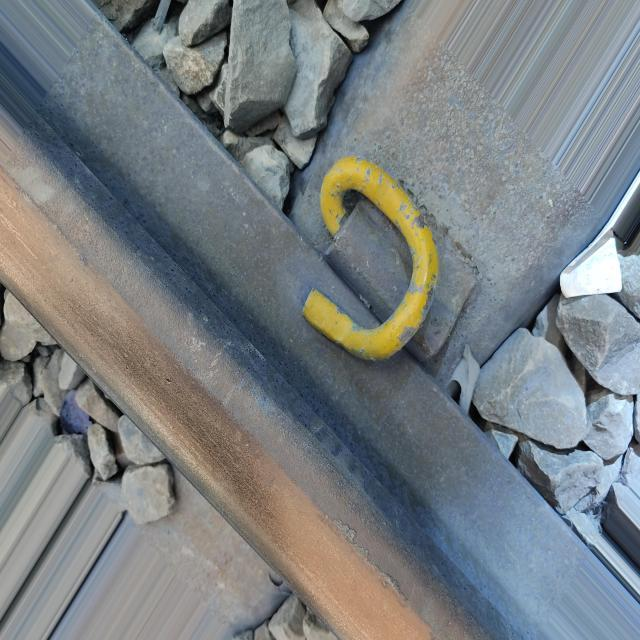Good Fasteners: (303, 157, 476, 361)
